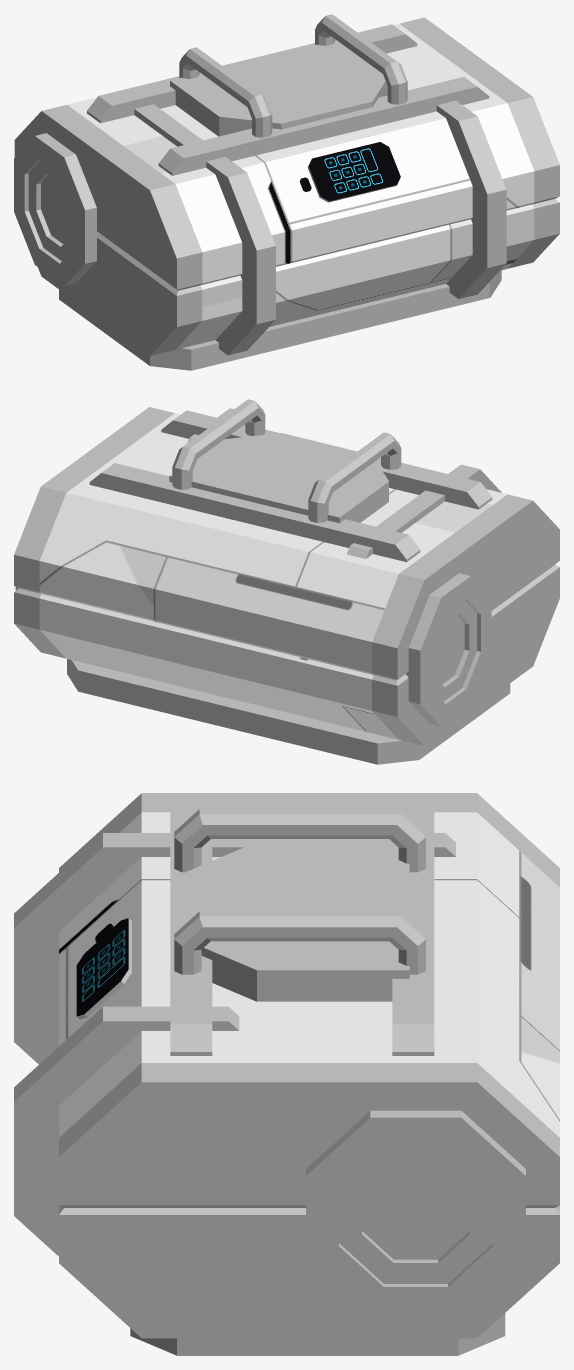
File: SM_ContainerM_Box_3.fbx
3 views of the same model, one above another, from view 1: azimuth 30°, elevation 25°; view 2: azimuth 150°, elevation 25°; view 3: azimuth 270°, elevation 25° (orthographic). The views are drawn at different scales.
Visible parts, largest first — view 1: SM_ContainerM_Box_3; view 2: SM_ContainerM_Box_3; view 3: SM_ContainerM_Box_3.
Part boxes in pixels (<box>): SM_ContainerM_Box_3: <box>14,14,559,370</box>; SM_ContainerM_Box_3: <box>14,399,559,764</box>; SM_ContainerM_Box_3: <box>14,793,559,1355</box>.
Size of the model in its own units: 111 by 62.12 by 83.93.
